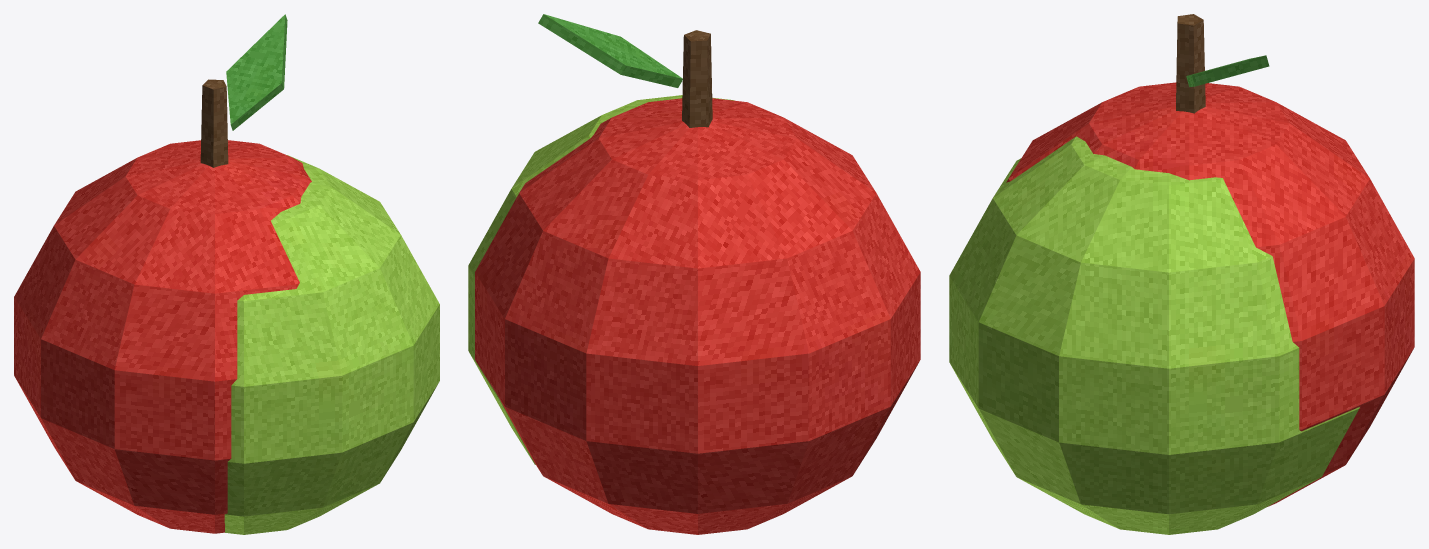
3 renders of one model, left to right at view 1: azimuth 30°, elevation 25°; view 2: azimuth 150°, elevation 25°; view 3: azimuth 270°, elevation 25°, orthographic. The views are drawn at different scales.
Parts seen in each view (by area): view 1: apple; view 2: apple; view 3: apple.
Part boxes in pixels (left/top/right/bottom): apple: left=14, top=14, right=439, bottom=534; apple: left=468, top=14, right=920, bottom=534; apple: left=949, top=14, right=1414, bottom=534.
Size of the model in its own units: 0.0815 by 0.0962 by 0.0805.
4 materials, 4 textured.
